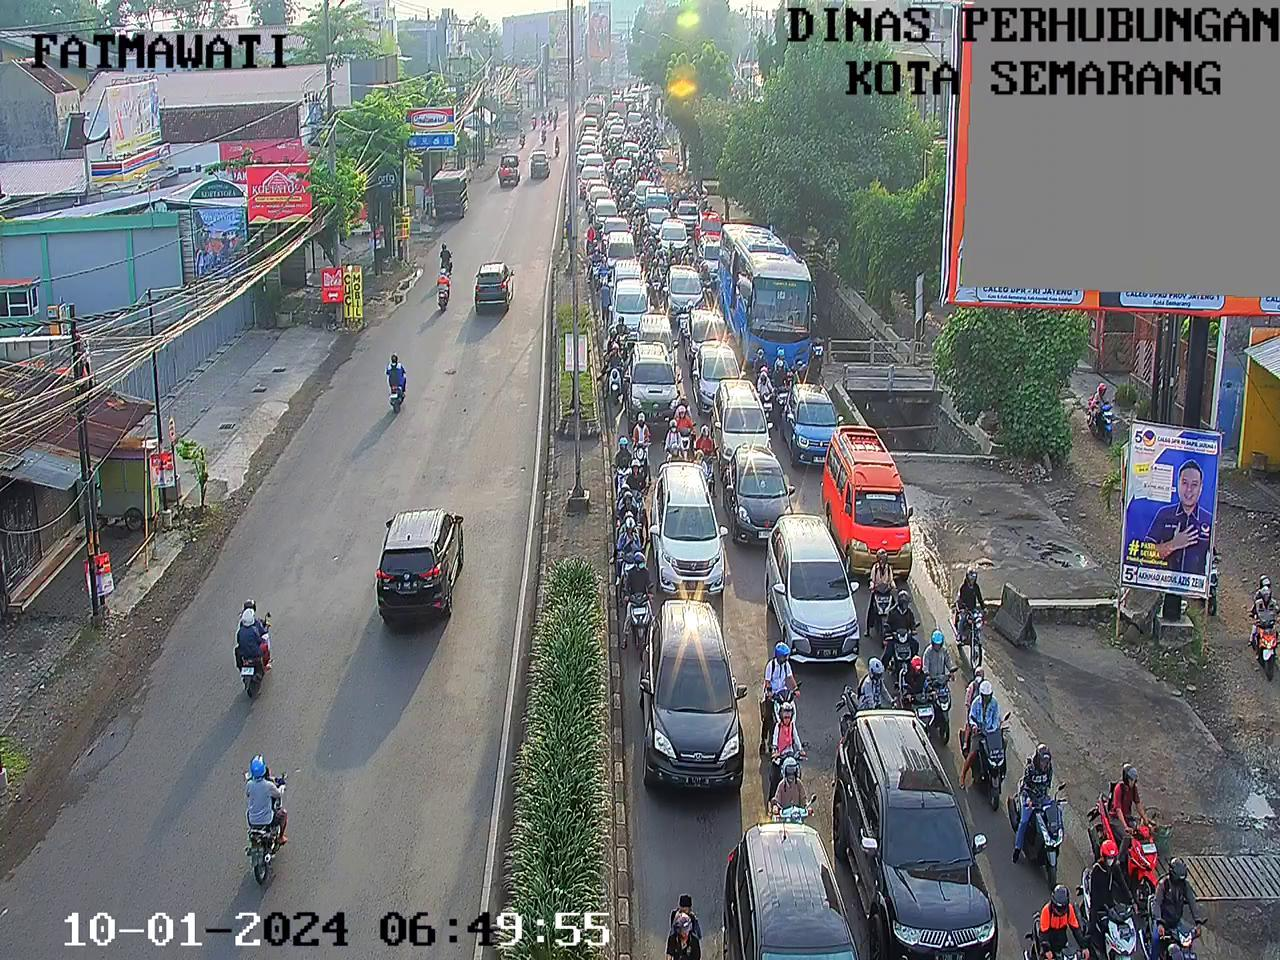bus: (716, 219, 816, 371), (631, 83, 650, 93)
car: (835, 694, 1004, 960), (638, 590, 745, 795), (761, 500, 866, 669), (727, 827, 855, 960), (818, 426, 922, 580), (652, 456, 729, 594), (719, 435, 804, 544), (622, 334, 692, 433), (708, 374, 779, 466), (789, 375, 846, 467), (690, 341, 741, 413), (611, 276, 654, 333), (639, 310, 677, 367), (684, 308, 728, 357), (664, 265, 701, 310), (661, 221, 690, 257), (607, 229, 637, 263), (613, 255, 643, 286), (602, 214, 629, 246), (591, 198, 621, 223), (657, 149, 680, 182), (700, 211, 723, 243), (643, 185, 670, 210), (586, 182, 611, 207), (677, 196, 697, 227), (646, 207, 671, 231), (634, 176, 656, 202), (574, 166, 598, 185), (584, 151, 605, 168), (579, 131, 604, 144), (609, 101, 628, 116), (577, 148, 592, 165), (624, 138, 637, 156), (625, 111, 644, 123), (625, 93, 637, 109), (583, 117, 599, 128), (602, 110, 618, 121), (616, 158, 630, 170), (609, 125, 622, 137)
motorcycle: (1089, 762, 1171, 887), (1018, 743, 1084, 883), (964, 658, 1015, 799), (1148, 843, 1205, 956), (1081, 832, 1134, 948), (1024, 876, 1083, 960), (925, 636, 971, 744), (860, 542, 909, 638), (762, 643, 810, 732), (840, 658, 897, 733), (955, 567, 998, 658), (884, 591, 921, 694), (622, 554, 664, 638), (898, 656, 943, 729), (768, 699, 806, 785), (659, 891, 705, 955), (774, 757, 810, 820), (632, 408, 661, 485), (615, 513, 648, 578), (611, 474, 646, 533), (610, 427, 633, 492), (672, 400, 699, 455), (811, 312, 833, 374), (756, 366, 776, 428), (773, 357, 794, 412), (625, 456, 647, 507), (701, 423, 723, 475), (606, 338, 625, 395), (698, 257, 720, 303), (663, 413, 682, 462), (775, 347, 799, 384), (602, 314, 625, 348), (648, 260, 663, 305), (587, 241, 602, 283), (615, 315, 631, 352), (676, 303, 693, 336), (632, 203, 646, 238), (598, 254, 612, 288), (756, 348, 771, 378), (793, 358, 808, 384), (695, 449, 709, 478), (639, 245, 652, 274), (639, 211, 651, 241), (683, 243, 697, 268), (622, 179, 639, 199), (657, 244, 669, 270), (703, 197, 716, 219), (668, 182, 679, 206), (610, 181, 621, 205), (645, 227, 656, 250), (575, 175, 588, 197), (587, 219, 595, 250), (667, 441, 680, 459), (680, 183, 690, 205), (632, 127, 643, 145), (690, 183, 700, 202), (638, 165, 649, 183), (653, 126, 662, 145), (625, 165, 634, 184), (644, 149, 653, 167), (645, 130, 652, 151), (670, 256, 678, 274), (615, 166, 623, 185), (624, 169, 633, 186), (684, 168, 695, 182), (600, 138, 608, 155), (672, 172, 681, 188), (608, 170, 615, 189), (637, 151, 646, 164), (626, 148, 634, 162), (609, 138, 616, 154), (667, 168, 673, 187), (655, 171, 663, 185), (614, 135, 620, 152), (627, 123, 634, 137), (601, 124, 607, 138), (678, 161, 684, 174), (643, 106, 650, 117), (641, 116, 647, 128), (623, 128, 629, 140), (619, 94, 626, 104), (641, 96, 646, 108), (630, 101, 636, 110), (634, 82, 639, 87), (628, 84, 630, 92)
truck: (585, 85, 614, 122)
